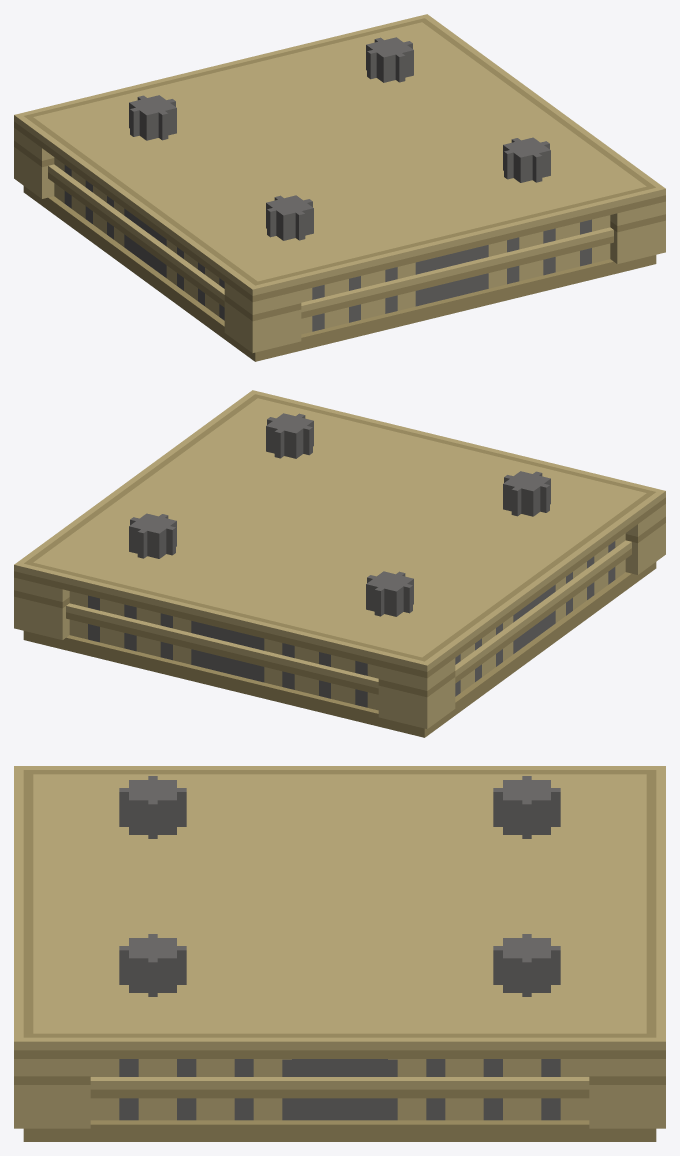
Rendered from tier1.glb.
3 views of the same model, one above another, from view 1: azimuth 30°, elevation 25°; view 2: azimuth 150°, elevation 25°; view 3: azimuth 270°, elevation 25° (orthographic). The views are drawn at different scales.
Size of the model in its own units: 68 by 16 by 68.
